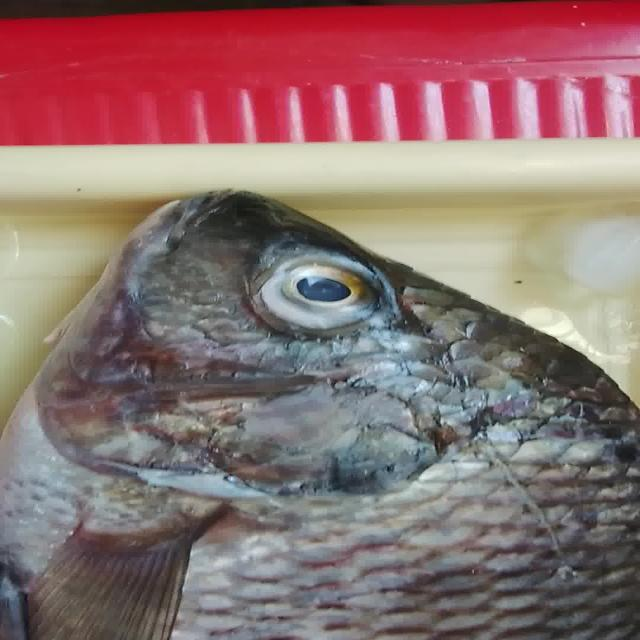Fresh: (243, 252, 400, 336)
